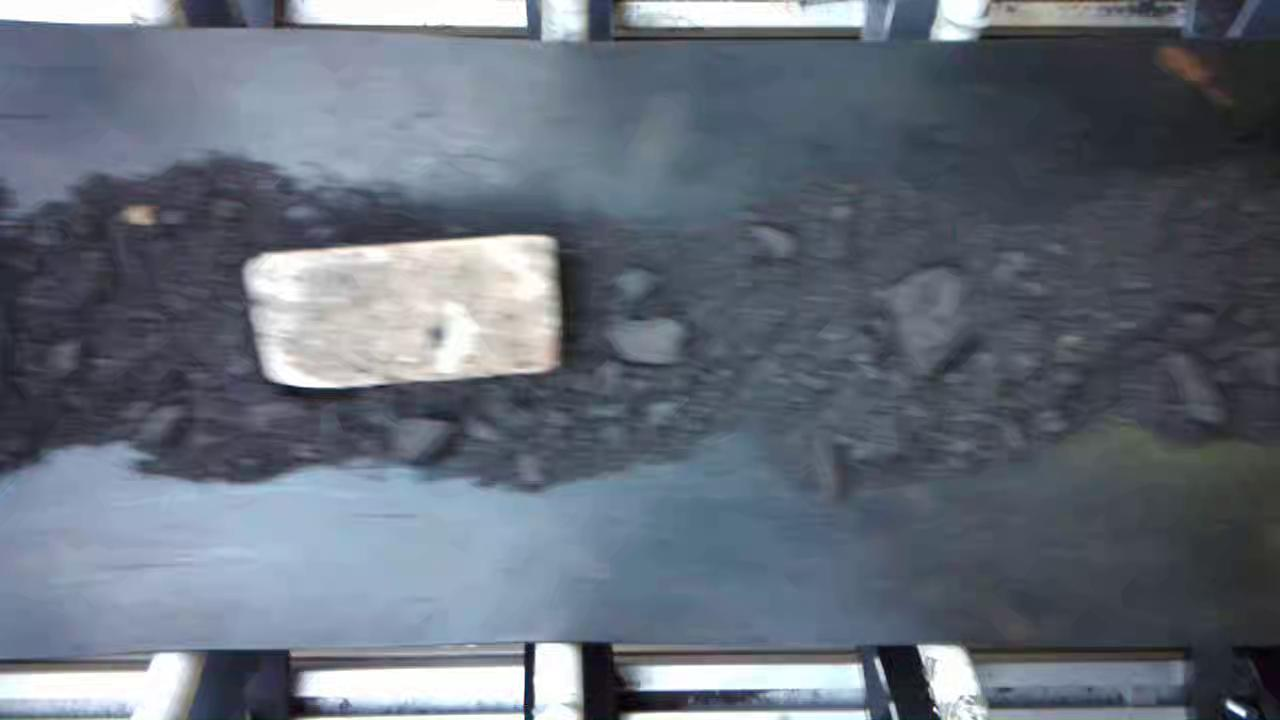conveyor: (8, 57, 1276, 637)
